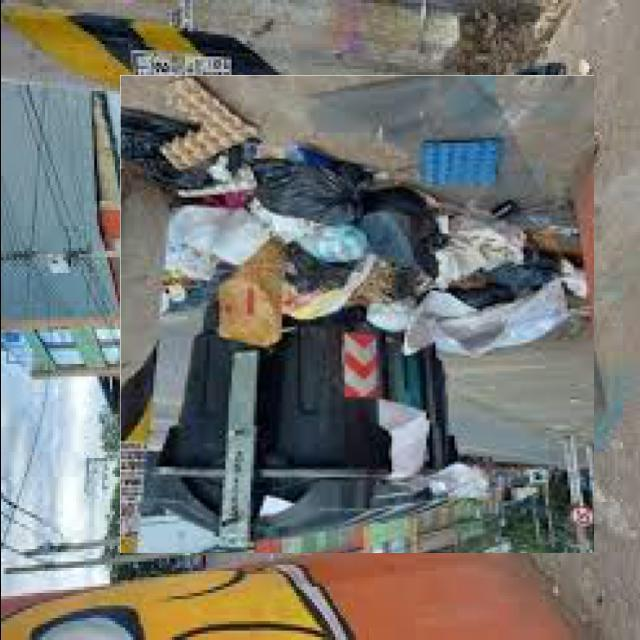Trashbag: (364, 180, 445, 278), (250, 158, 370, 224)
